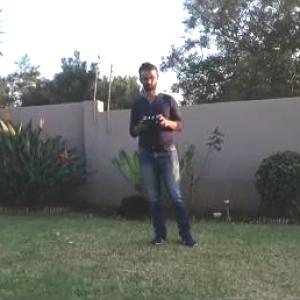follow: (127, 58, 207, 250)
